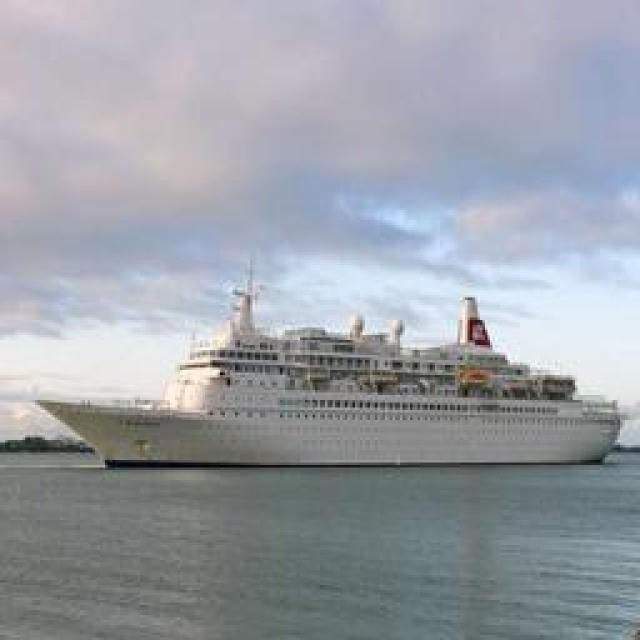ship2: (36, 292, 622, 471)
